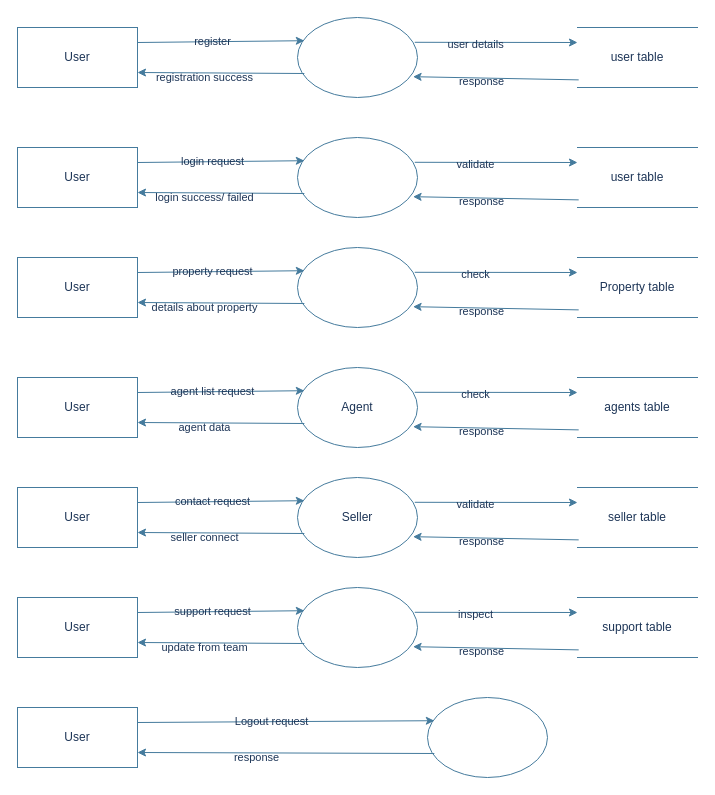
This 715x795 diagram has some shape labels left out. The box of each missing label's shape, as (x1, y1, x2, y2) in pixels:
Contact Us: (296, 586, 418, 668)
Login: (296, 136, 418, 218)
Logout: (426, 696, 548, 778)
Property: (296, 246, 418, 328)
Regsitration: (296, 16, 418, 98)
